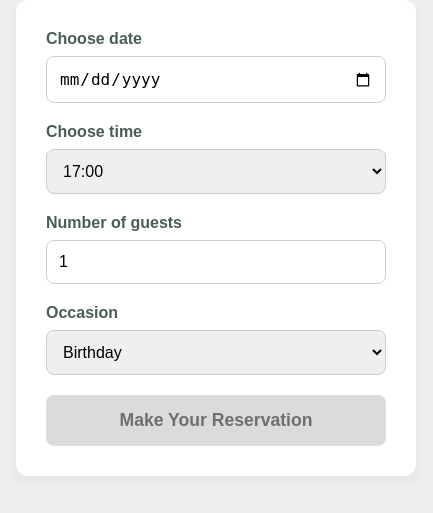
Scenario: BookingForm Validation and Submission › Submit button is disabled and error shown for invalid guests count
// Set a valid date first
Type "2026-10-10" into the date field labelled "Choose date" at (216, 80), box [46, 56, 386, 103]
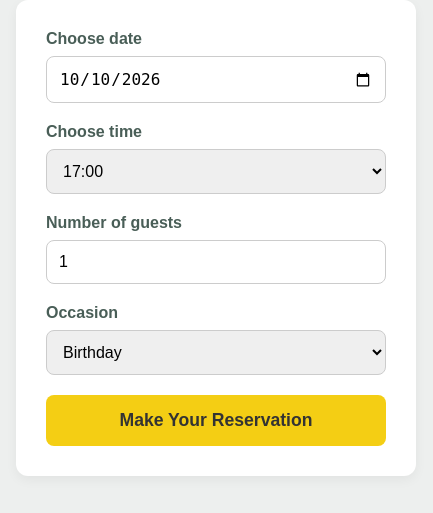
// Set invalid guests (less than 1)
Replace the text in the number field labelled "Number of guests" with "0" at (216, 262), box [46, 240, 386, 284]
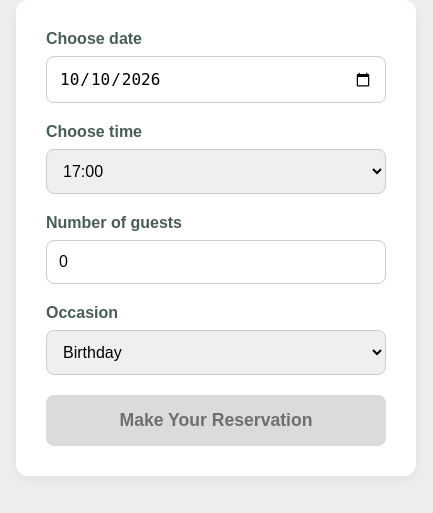
Leave the number field labelled "Number of guests", box [46, 240, 386, 284]
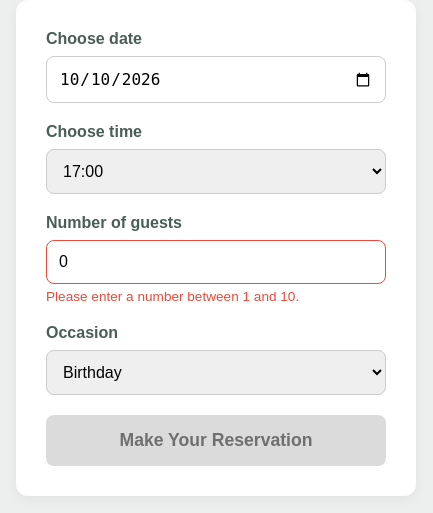
Expected: the button "Make Your Reservation" is disabled, [46, 415, 386, 466]
Expected: the text "Please enter a number between 1 and 10." is shown, [46, 289, 299, 304]
